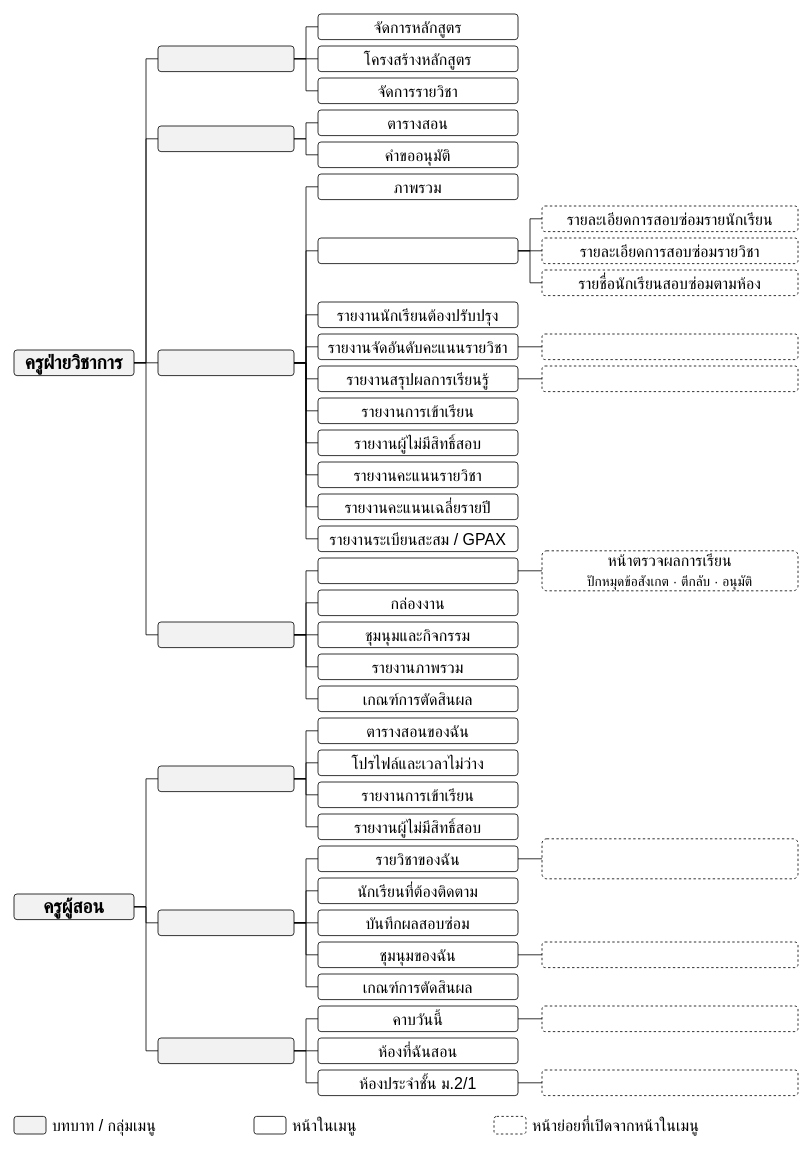
Image size: 812x1153. Some labels were removed from this diagram. The shapes that lost their labels are listed below. From the top down, each one's box as (x1, y1, x2, y2) in pixels, then its label:
(157, 45, 294, 72): หลักสูตร
(157, 125, 294, 152): ตารางเรียน
(317, 237, 518, 264): รายงานผลการสอบซ่อม
(157, 349, 294, 376): รายงานวิชาการ
(541, 333, 798, 360): อันดับคะแนนของรายวิชา
(541, 365, 798, 392): รายละเอียดผลการเรียนรายวิชา
(317, 557, 518, 584): ภาพรวมทั้งโรงเรียน
(157, 621, 294, 648): ผลการเรียน
(157, 765, 294, 792): งานของฉัน
(541, 838, 798, 879): หน้าห้องเรียนที่สอน โครงสร้างคะแนน · กรอกคะแนน · ผลการเรียน · ส่งผล
(157, 909, 294, 936): บันทึกคะแนน
(541, 941, 798, 968): หน้าชุมนุม
(541, 1005, 798, 1032): หน้าเช็คชื่อรายคาบ
(157, 1037, 294, 1064): เช็คชื่อ
(541, 1069, 798, 1096): สรุปการเข้าเรียนทั้งภาค
